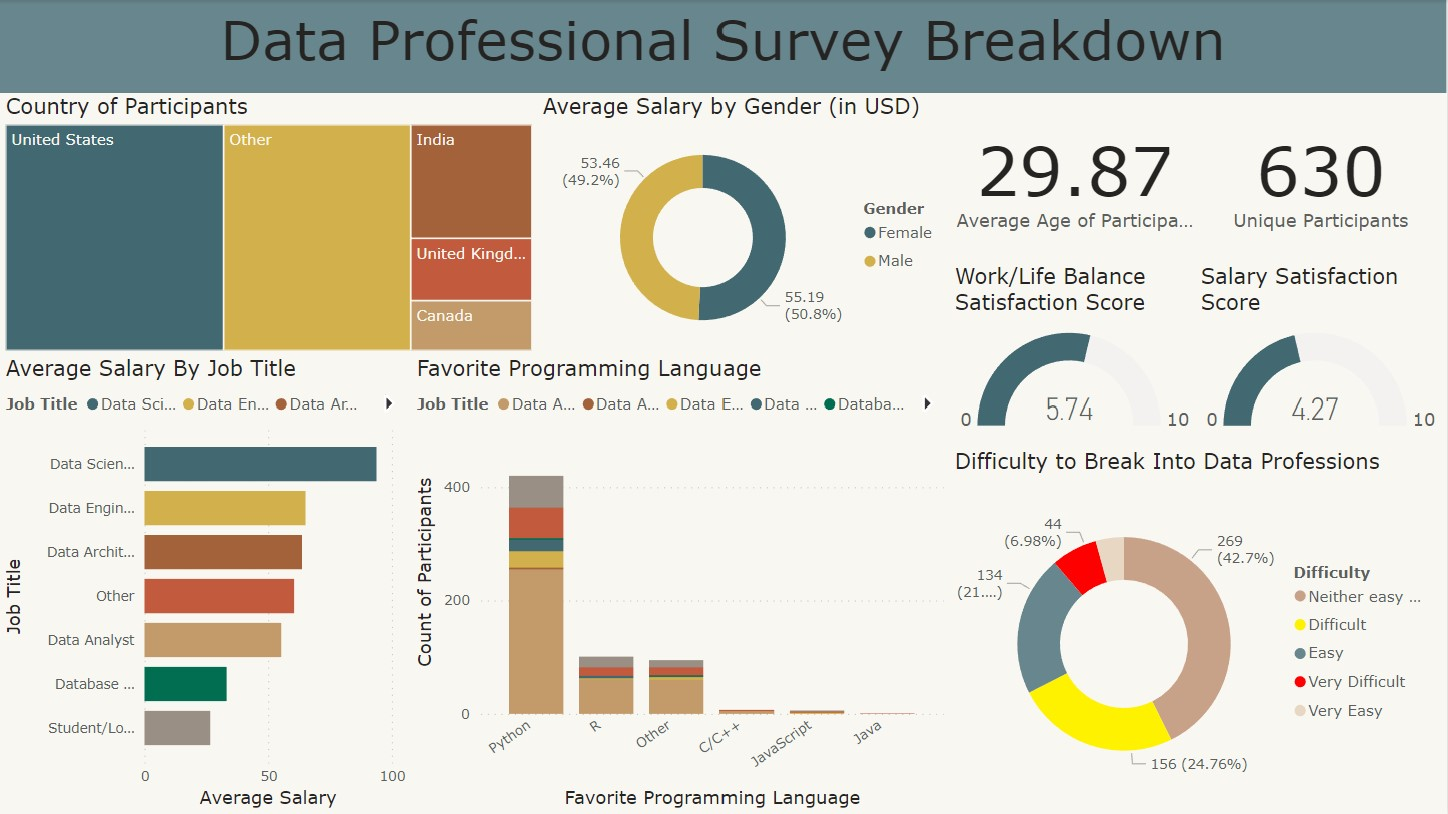

The page's visual inventory and layout, read from the dashboard file:
{"tool":"powerbi","page":{"name":"Page 1","canvas":[1280,720],"ordinal":0},"visuals":[{"type":"textbox","box":[0,0,1280,82.7],"z":0},{"type":"card","fields":{"Values":["CountNonNull(Data Professional Survey.Unique ID)"]},"box":[1057.2,82.3,222.7,150.3],"z":1000},{"type":"card","fields":{"Values":["Avg(Data Professional Survey.Q10 - Current Age)"]},"box":[839.9,82.3,222.7,150.3],"z":2000},{"type":"barChart","title":"Average Salary By Job Title","fields":{"Category":["Data Professional Survey.Q1 - Which Title Best Fits your Current Role?.1"],"Y":["Avg(Data Professional Survey.Average Salary)"],"Series":["Data Professional Survey.Q1 - Which Title Best Fits your Current Role?.1"]},"box":[0,314.8,364,405.2],"z":3000},{"type":"columnChart","title":"Favorite Programming Language","fields":{"Category":["Data Professional Survey.Q5 - Favorite Programming Language.1"],"Y":["CountNonNull(Data Professional Survey.Unique ID)"],"Series":["Data Professional Survey.Q1 - Which Title Best Fits your Current Role?.1"]},"box":[364,314.8,475.8,405.2],"z":4000},{"type":"treemap","title":"Country of Participants","fields":{"Group":["Data Professional Survey.Q11 - Which Country do you live in?.1"],"Values":["CountNonNull(Data Professional Survey.Q11 - Which Country do you live in?.1)"]},"box":[0,82.3,475.8,232.5],"z":5000},{"type":"gauge","title":"Salary Satisfaction Score","fields":{"Y":["Avg(Data Professional Survey.Q6 - How Happy are you in your Current Position with the following? (Salary))"],"MinValue":["Min(Data Professional Survey.Q6 - How Happy are you in your Current Position with the following? (Salary))"],"MaxValue":["Max(Data Professional Survey.Q6 - How Happy are you in your Current Position with the following? (Salary))"]},"box":[1057.2,232.5,223,163.7],"z":6000},{"type":"gauge","title":"Work/Life Balance Satisfaction Score","fields":{"Y":["Avg(Data Professional Survey.Q6 - How Happy are you in your Current Position with the following? (Work/Life Balance))"],"MinValue":["Min(Data Professional Survey.Q6 - How Happy are you in your Current Position with the following? (Work/Life Balance))"],"MaxValue":["Max(Data Professional Survey.Q6 - How Happy are you in your Current Position with the following? (Work/Life Balance))"]},"box":[839.9,232.5,222.7,163.7],"z":7000},{"type":"donutChart","title":"Average Salary by Gender (in USD)","fields":{"Y":["Avg(Data Professional Survey.Average Salary)"],"Category":["Data Professional Survey.Q9 - Male/Female?"]},"box":[475.8,82.3,364,232.5],"z":8000},{"type":"donutChart","title":"Difficulty to Break Into Data Professions","fields":{"Category":["Data Professional Survey.Q7 - How difficult was it for you to break into Data?"],"Y":["CountNonNull(Data Professional Survey.Q7 - How difficult was it for you to break into Data?)"]},"box":[839.9,396.2,440,323.8],"z":9000}]}

Visuals, with their boxes in screenshot pixels (x1, y1, x2, y2), scaled from the page's 1280x720 canvas onto the 1448x814 screenshot:
textbox: bbox=[0, 0, 1447, 93]
card - CountNonNull(Data Professional Survey.Unique ID): bbox=[1196, 93, 1447, 263]
card - Avg(Data Professional Survey.Q10 - Current Age): bbox=[950, 93, 1202, 263]
"Average Salary By Job Title" barChart: bbox=[0, 356, 412, 813]
"Favorite Programming Language" columnChart: bbox=[412, 356, 950, 813]
"Country of Participants" treemap: bbox=[0, 93, 538, 356]
"Salary Satisfaction Score" gauge: bbox=[1196, 263, 1447, 448]
"Work/Life Balance Satisfaction Score" gauge: bbox=[950, 263, 1202, 448]
"Average Salary by Gender (in USD)" donutChart: bbox=[538, 93, 950, 356]
"Difficulty to Break Into Data Professions" donutChart: bbox=[950, 448, 1447, 813]
